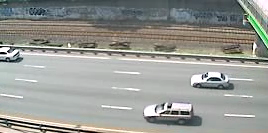car: (141, 100, 195, 126), (189, 71, 233, 91), (1, 46, 24, 64)
